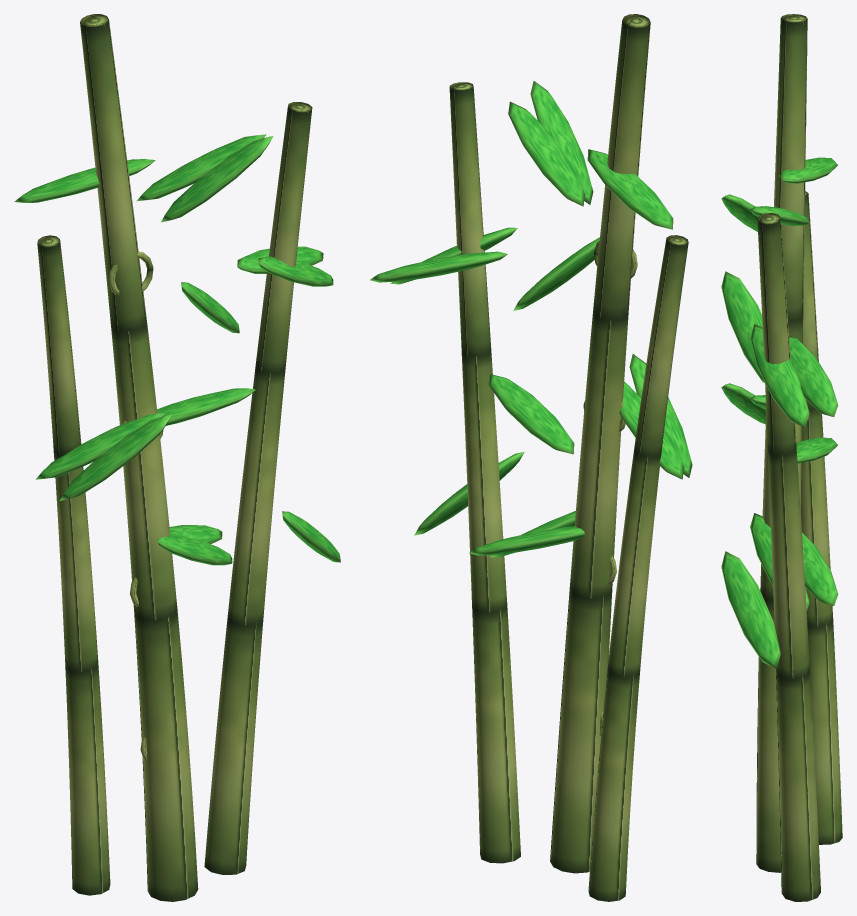
File: prop_bamboo_grove.obj
3 renders of one model, left to right at view 1: azimuth 30°, elevation 25°; view 2: azimuth 150°, elevation 25°; view 3: azimuth 270°, elevation 25°, orthographic. The views are drawn at different scales.
Parts seen in each view (by area): view 1: bamboo_curved_stalks, bamboo_leaf_fans; view 2: bamboo_curved_stalks, bamboo_leaf_fans; view 3: bamboo_curved_stalks, bamboo_leaf_fans.
Boxes of the visible parts, box(x1,y1,x2,y2) form: bamboo_curved_stalks: box(37, 14, 312, 901); bamboo_leaf_fans: box(14, 134, 340, 565); bamboo_curved_stalks: box(449, 14, 688, 901); bamboo_leaf_fans: box(370, 81, 692, 557); bamboo_curved_stalks: box(756, 14, 842, 901); bamboo_leaf_fans: box(721, 157, 838, 668).
Bounding box in the file's own units: 1.84 × 5.02 × 0.6758.
Materials: 2 (2 with a texture image).
